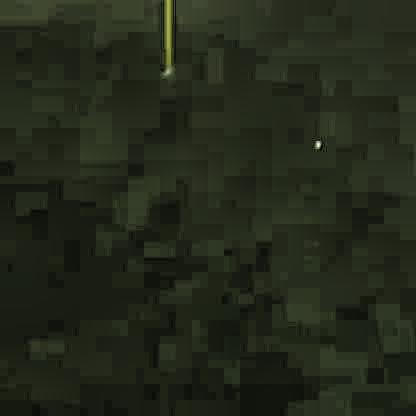golfball: (309, 138, 319, 148)
